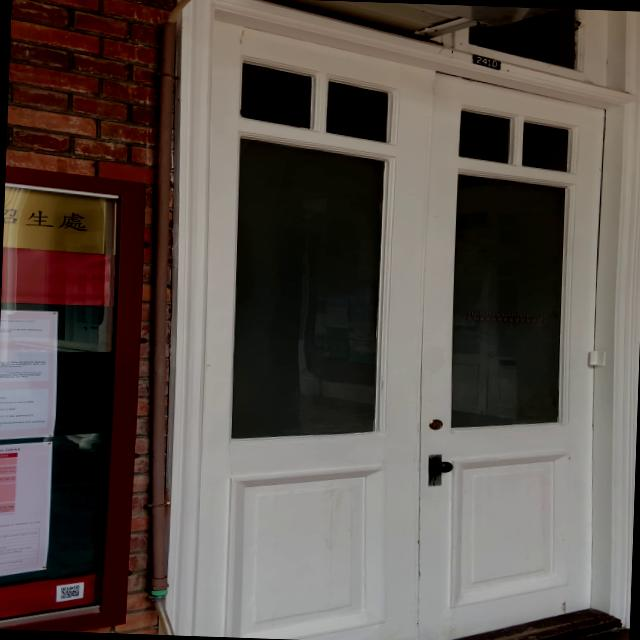room241d: (466, 52, 504, 73)
